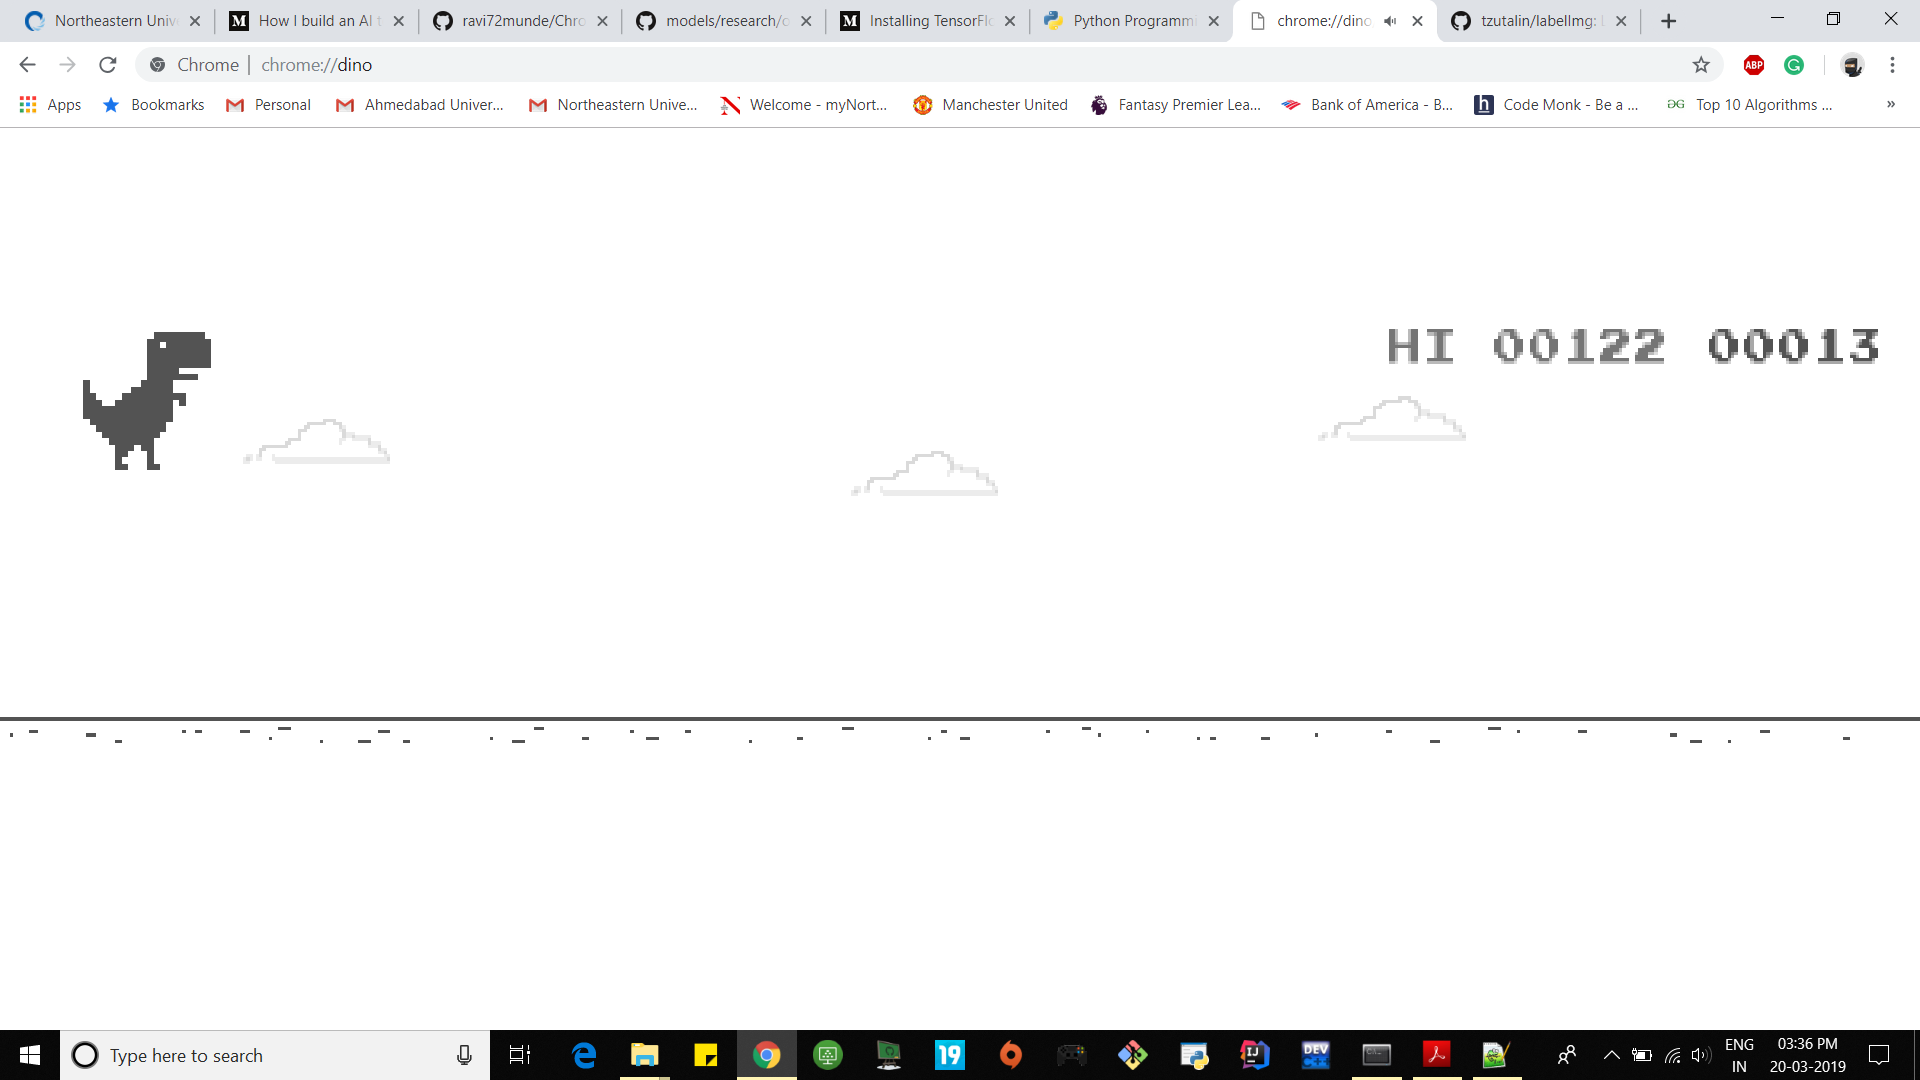dino: (84, 331, 211, 472)
